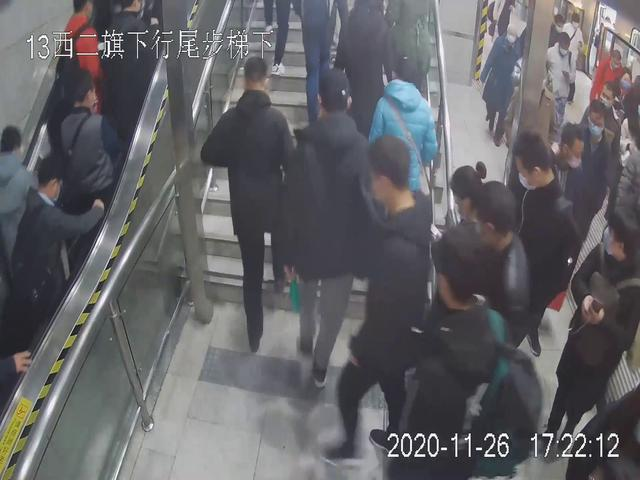person: (200, 55, 304, 350), (408, 230, 522, 480), (289, 68, 374, 392), (352, 136, 426, 474), (544, 206, 640, 445), (57, 65, 121, 249), (479, 22, 525, 146)
